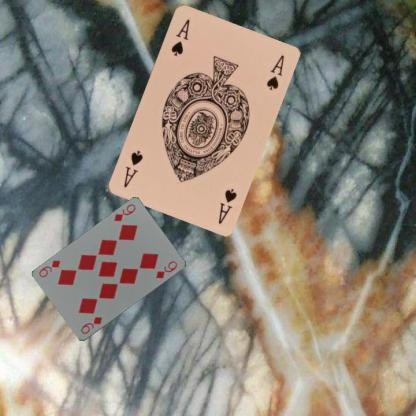9d: (78, 314, 103, 336), (111, 202, 137, 223)
As: (168, 16, 191, 57), (216, 185, 238, 225)
